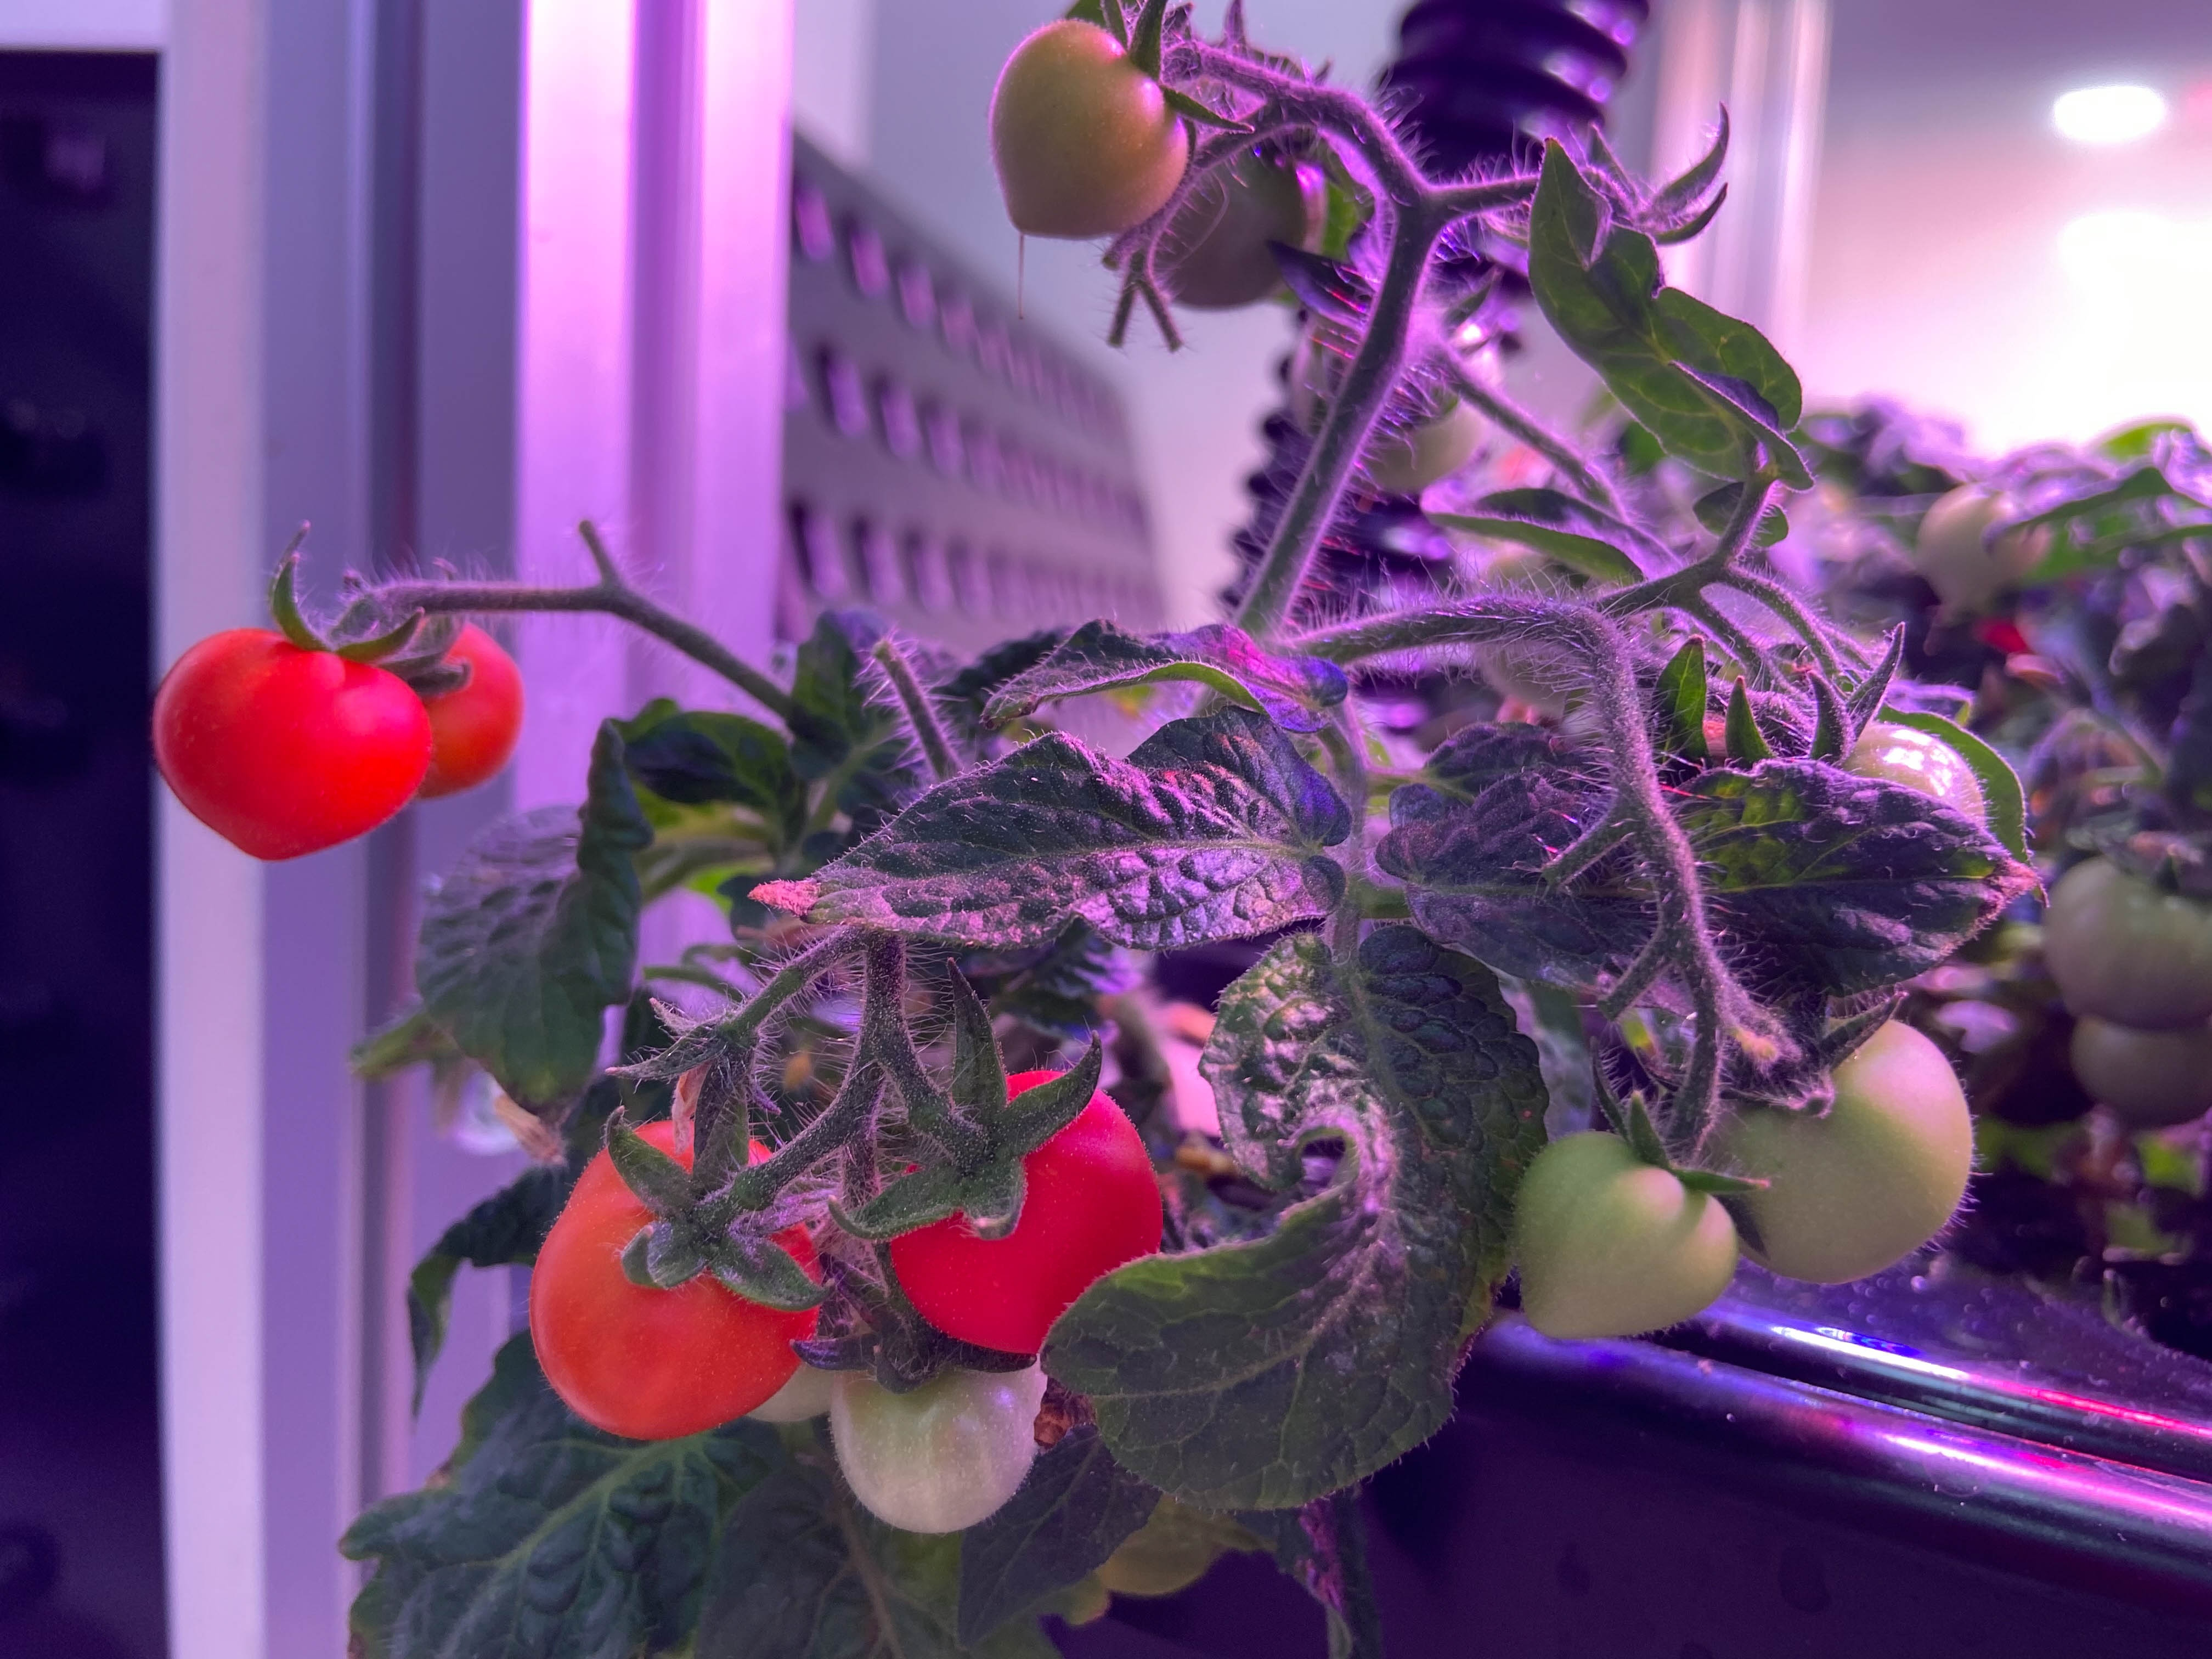green: (1695, 1002, 1972, 1284), (1505, 1127, 1738, 1345), (1289, 272, 1514, 495), (1796, 694, 2017, 913), (986, 17, 1186, 244), (822, 1342, 1045, 1537), (1460, 528, 1669, 716), (2041, 843, 2209, 1025), (1136, 138, 1303, 308), (2067, 988, 2212, 1126), (1918, 483, 2038, 606), (745, 1326, 860, 1455)
red: (519, 1110, 826, 1443), (874, 1060, 1167, 1361), (153, 619, 430, 864), (381, 608, 523, 796)
